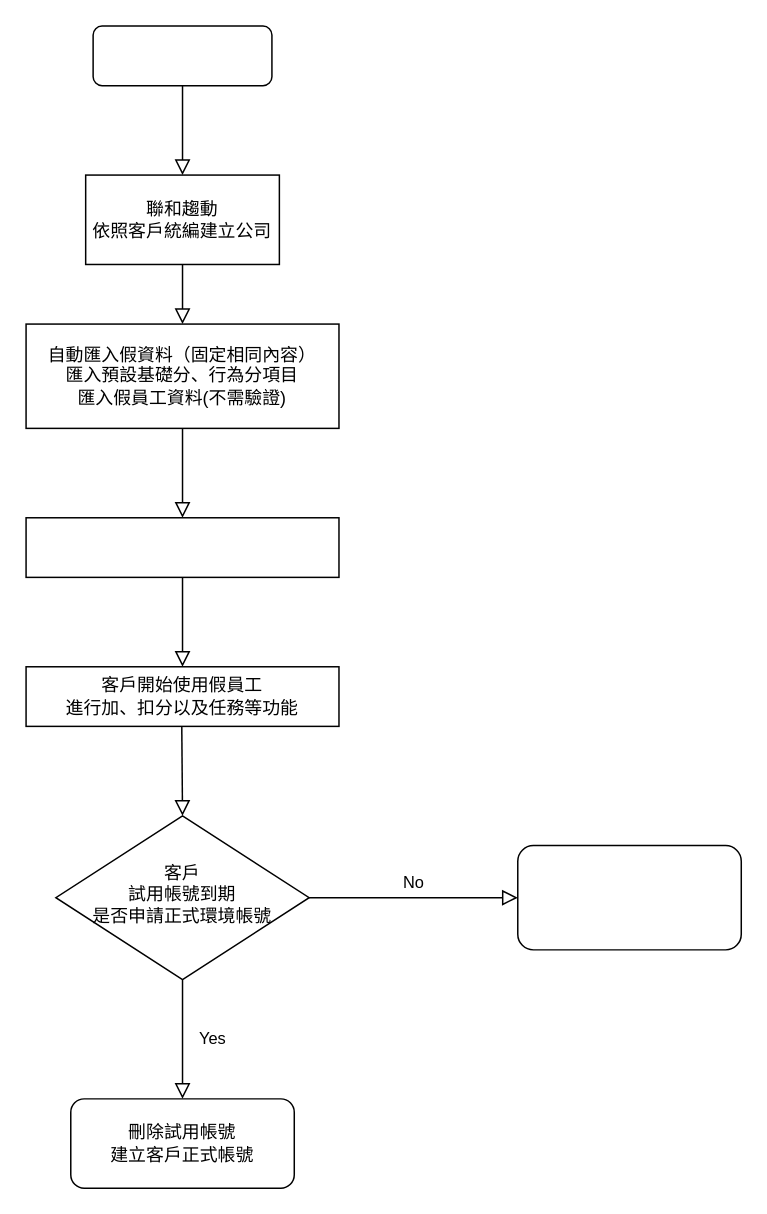
This 767x1214 diagram has some shape labels left out. Here are the shapes that lost their labels. From the top down, the centre of each, then its label:
the point at 182,55: 客戶申請試用帳號
the point at 182,546: 設定每一個假員工的權限
the point at 628,897: 1. 試用帳號維持到期狀態 或 2. 刪除試用帳號
